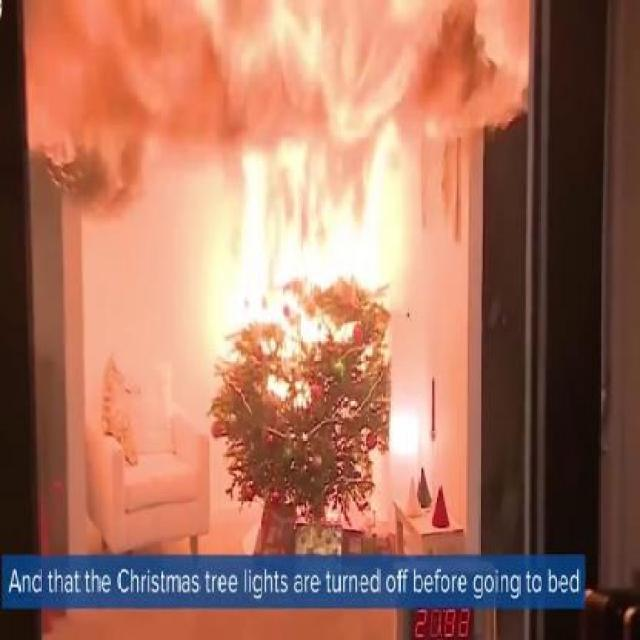fire: (228, 141, 389, 342)
smoke: (29, 1, 177, 214), (414, 0, 526, 148)
